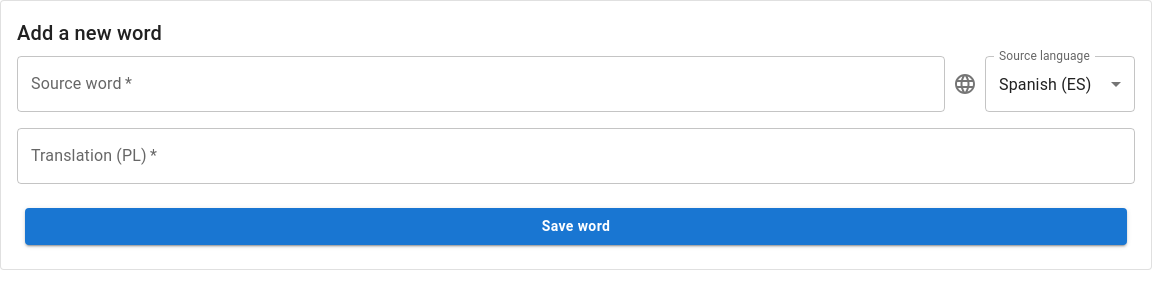
FlashcardForm › loads language options from the API
The width and height of the screenshot is (1152, 287).
Click the dropdown named "source language": (1045, 84) left=999, top=74, right=1091, bottom=94
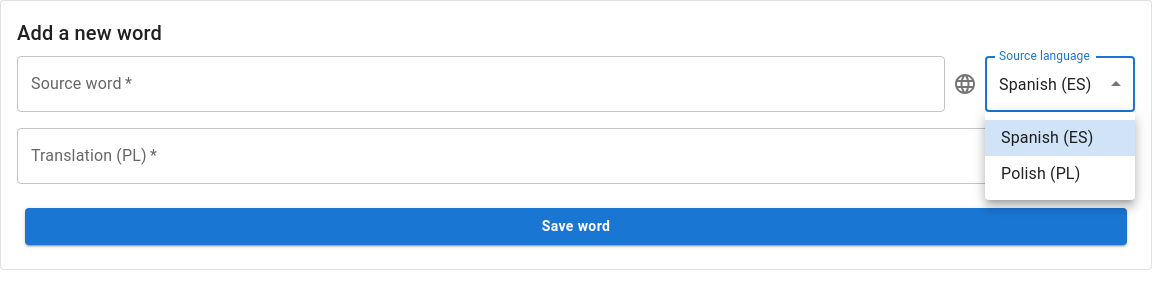
Expected: the options read "Spanish (ES)", "Polish (PL)", in this order, left=985, top=120, right=1135, bottom=156; left=1001, top=164, right=1080, bottom=183
